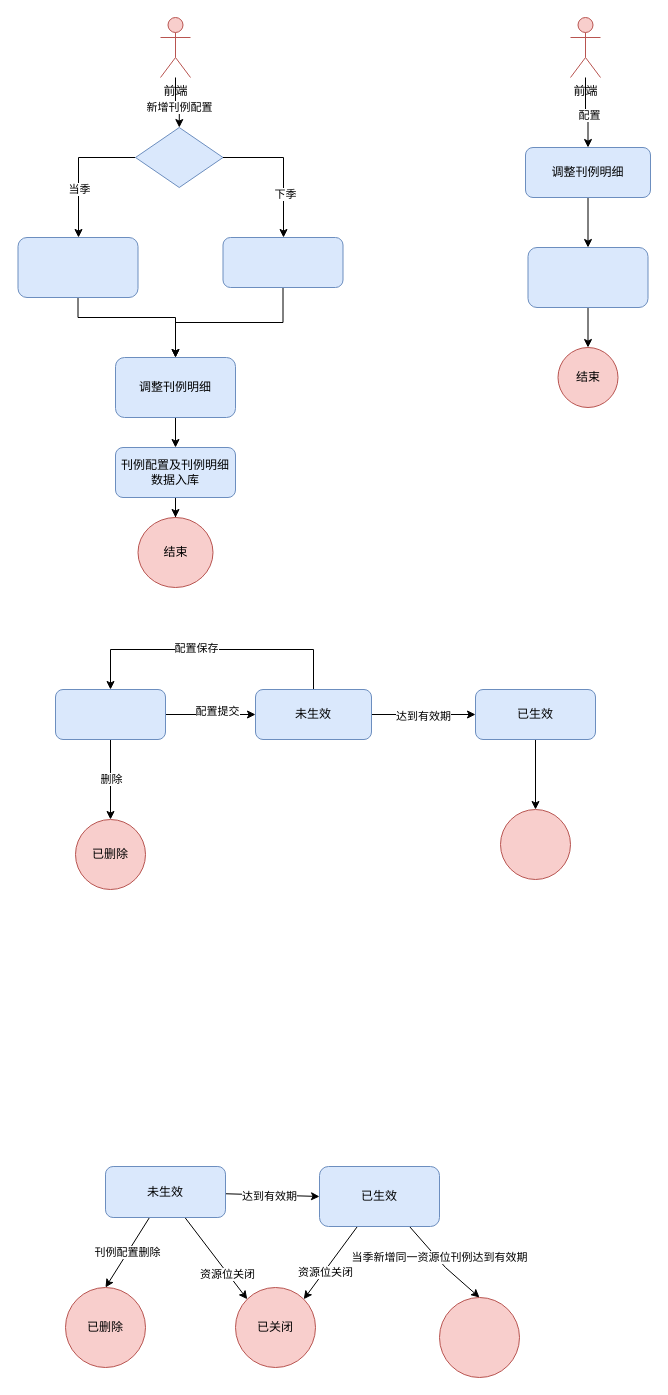
Some shapes in this 668 by 1395 pixel diagram are drawn without their labels. Here are the shapes that lost their labels. From the top down, the box of each, then its label:
(134, 126, 223, 188): 当季刊例/下季刊例？
(17, 236, 138, 298): 添加新增/待修改资源位
(222, 236, 343, 288): 复制当季已生效/未生效/未配置刊例信息
(527, 246, 648, 308): 刊例明细数据更新
(54, 688, 166, 740): 待处理
(500, 808, 570, 880): 往季生效
(438, 1296, 520, 1378): 已失效
